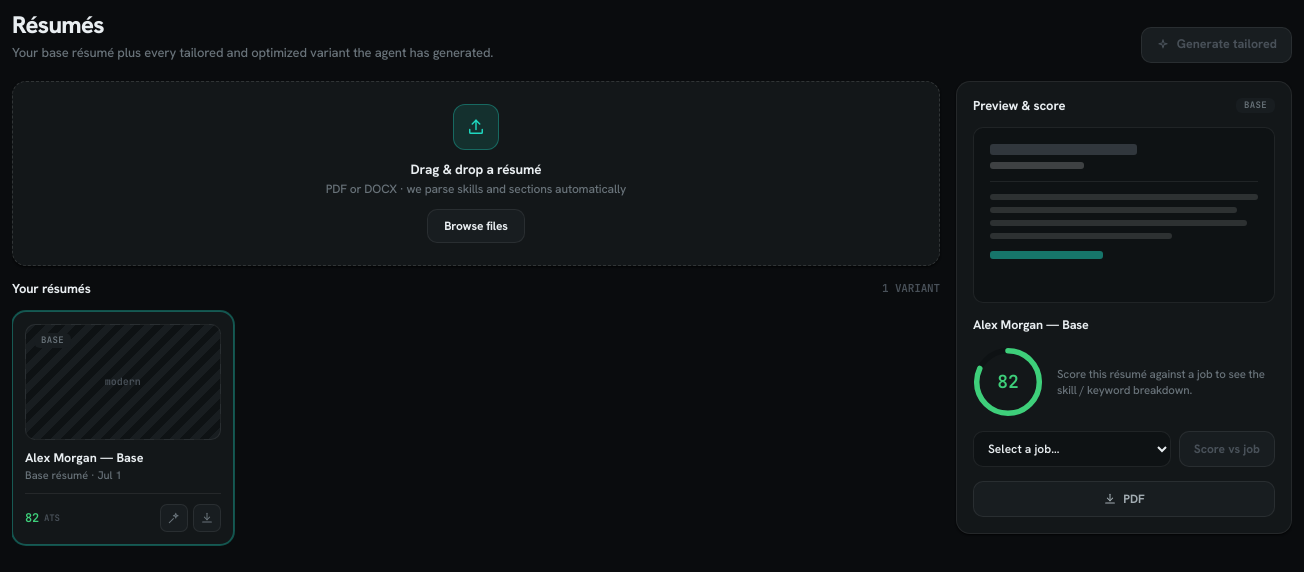
Test: ResumesPage › scores the selected résumé against a chosen job and shows the breakdown
Select "Senior PM · Northwind" in the dropdown named "target job" at (1072,449), box [973,431,1171,467]
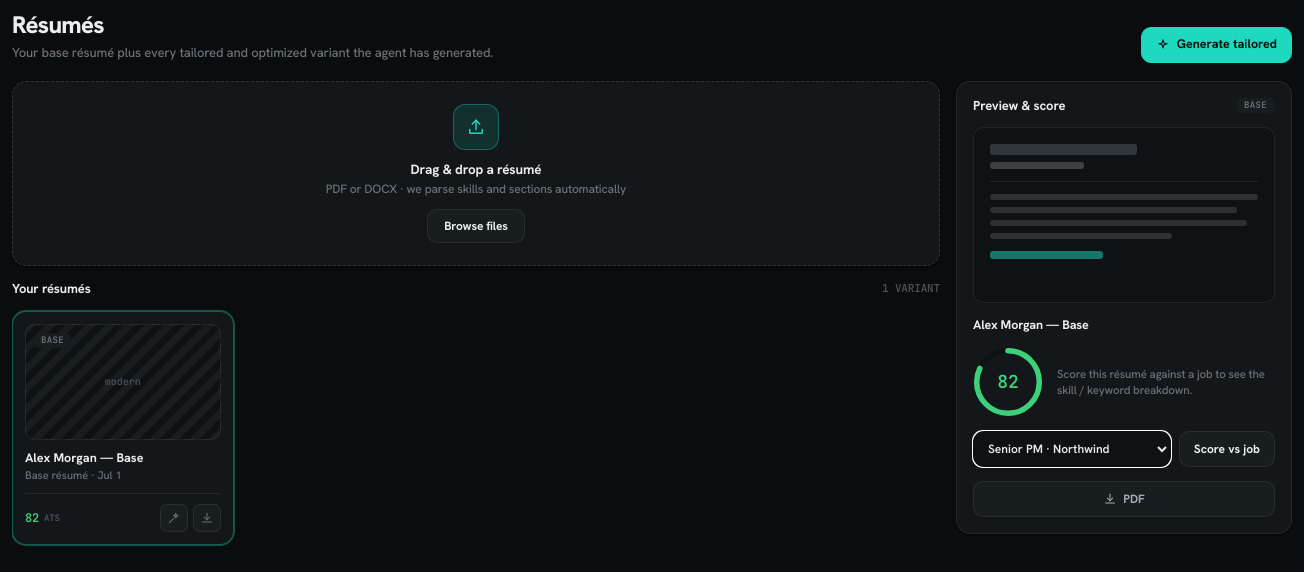
Click the button "Score vs job" at (1227,449), box [1179,431,1275,467]
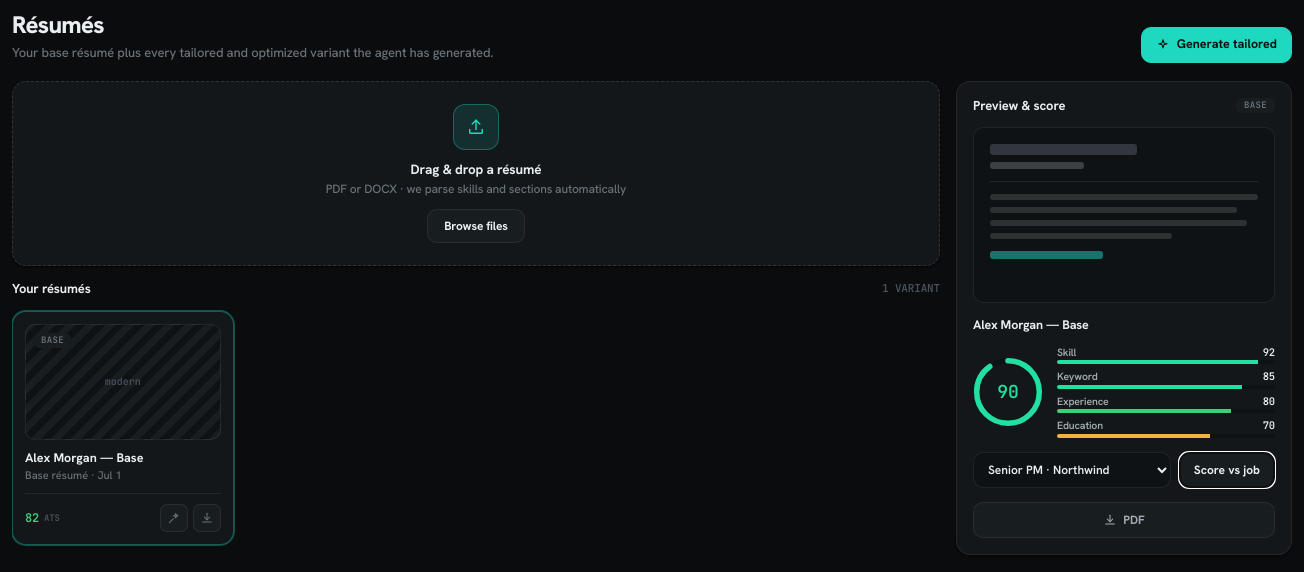
Now the text "90" is shown, box [997,380,1019,403]
